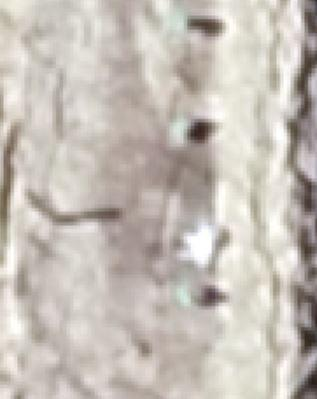cotton: (166, 11, 189, 30), (173, 285, 190, 304), (172, 118, 186, 141)
